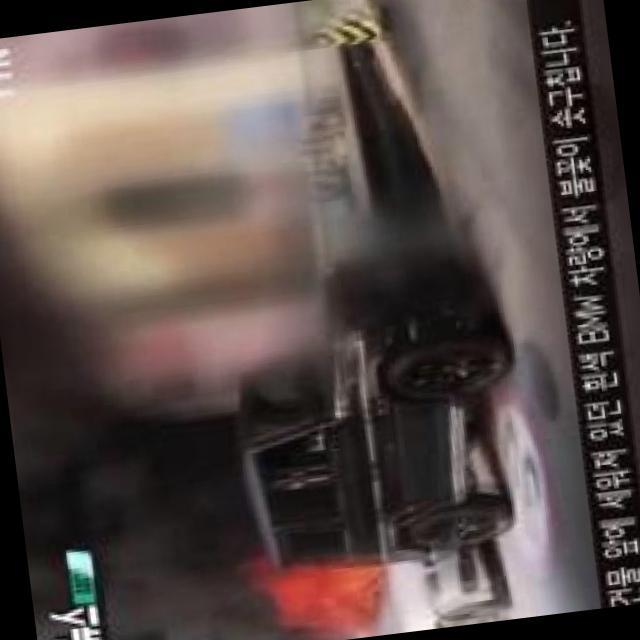Fire: (301, 558, 383, 619)
